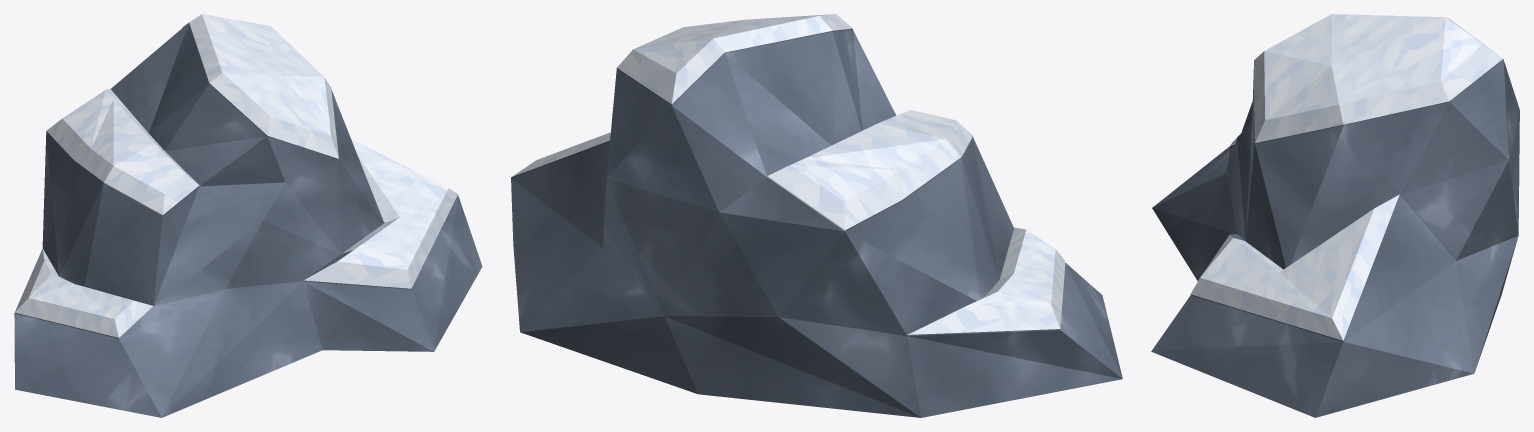
File: Rock02.fbx
3 renders of one model, left to right at view 1: azimuth 30°, elevation 25°; view 2: azimuth 150°, elevation 25°; view 3: azimuth 270°, elevation 25°, orthographic. The views are drawn at different scales.
Visible parts, largest first — view 1: Rock02; view 2: Rock02; view 3: Rock02.
Boxes of the visible parts, box(x1,y1,x2,y2) form: Rock02: box(14, 14, 482, 417); Rock02: box(511, 14, 1122, 417); Rock02: box(1151, 14, 1519, 417).
Bounding box in the file's own units: 280 × 147 × 173.
